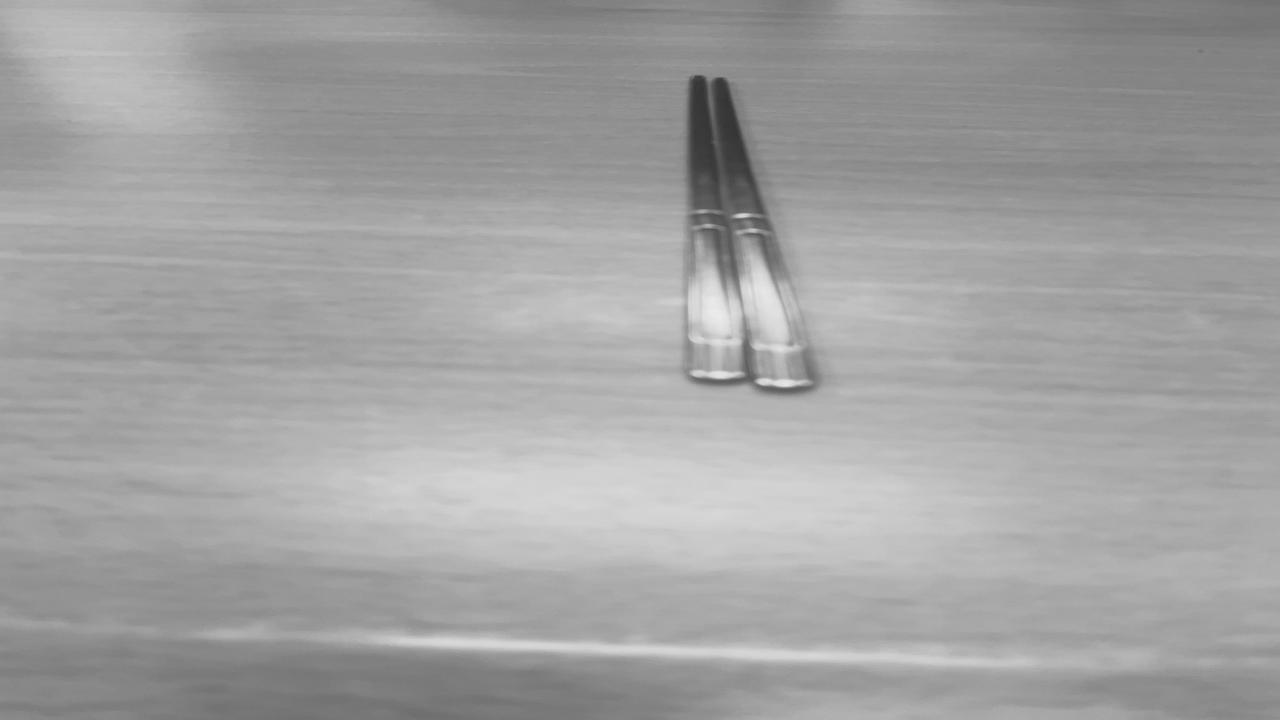chopstick: (686, 77, 812, 386)
